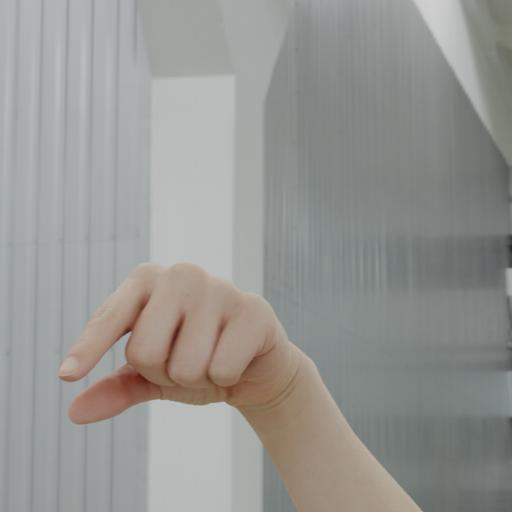Q: (50, 260, 302, 432)
